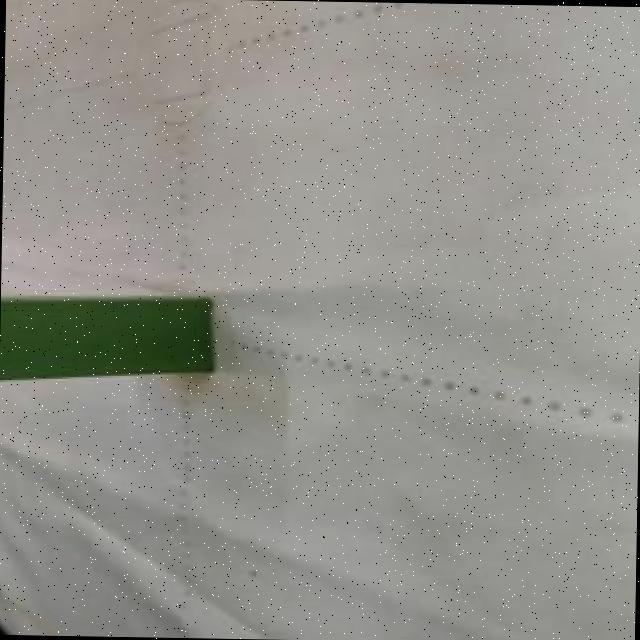greenbox: (0, 289, 217, 384)
